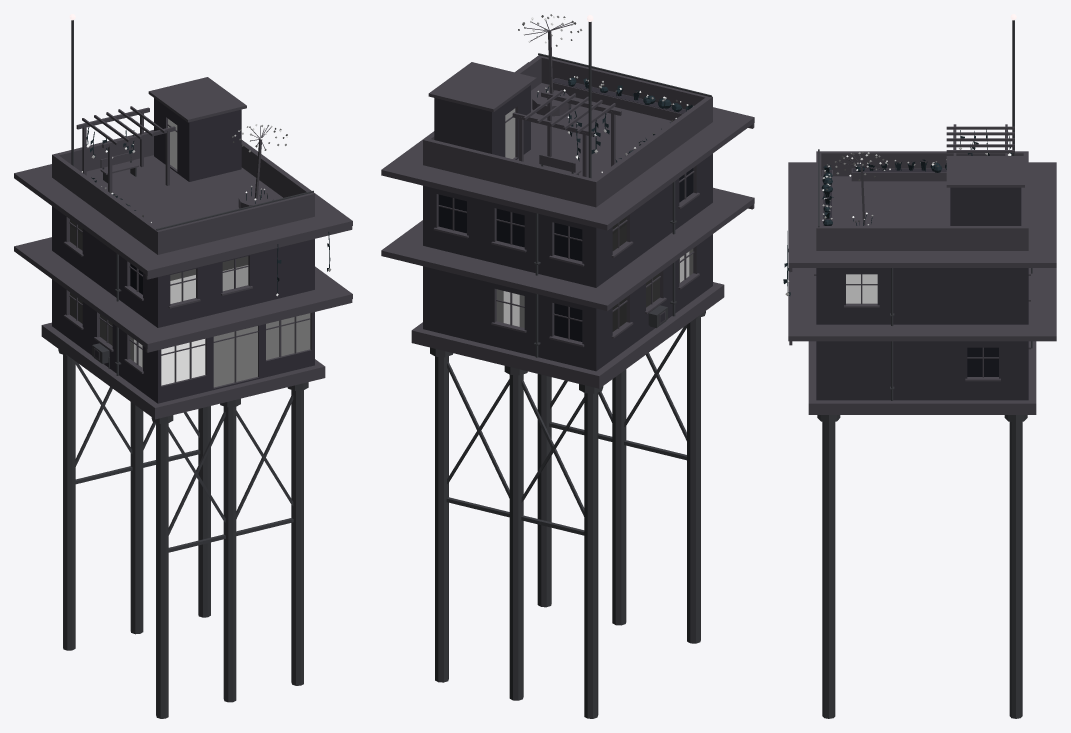
Rendered from mooring_shophouse_j.glb.
3 views of the same model, side by side, from view 1: azimuth 30°, elevation 25°; view 2: azimuth 150°, elevation 25°; view 3: azimuth 270°, elevation 25° (orthographic). The views are drawn at different scales.
Parts seen in each view (by area): view 1: mooring_shophouse_j; view 2: mooring_shophouse_j; view 3: mooring_shophouse_j.
Boxes of the visible parts, x1,y1,x2,y2 form: mooring_shophouse_j: [14, 14, 352, 718]; mooring_shophouse_j: [381, 14, 754, 718]; mooring_shophouse_j: [783, 14, 1056, 718].
Size of the model in its own units: 9.4 by 27.76 by 10.8.
10 materials, 3 textured.
